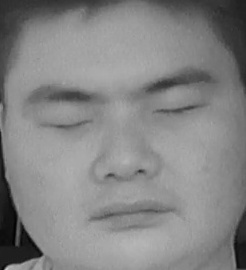blink: (154, 93, 203, 126), (44, 109, 94, 138)
mouth: (88, 188, 172, 236)
